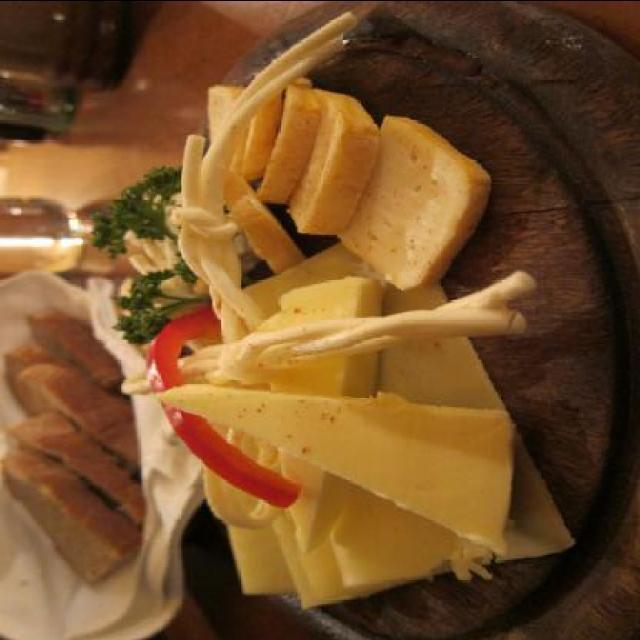Cheese: (167, 240, 570, 611), (338, 105, 489, 288)
